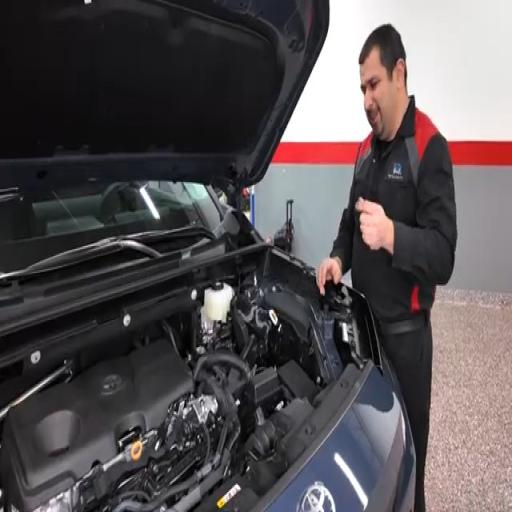bumper: (268, 367, 415, 511)
emblem: (297, 483, 335, 511), (102, 375, 123, 395)
hood: (0, 0, 328, 189)
windshield: (0, 181, 221, 273)
